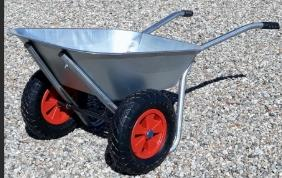BROUETTE: (7, 9, 282, 177)
